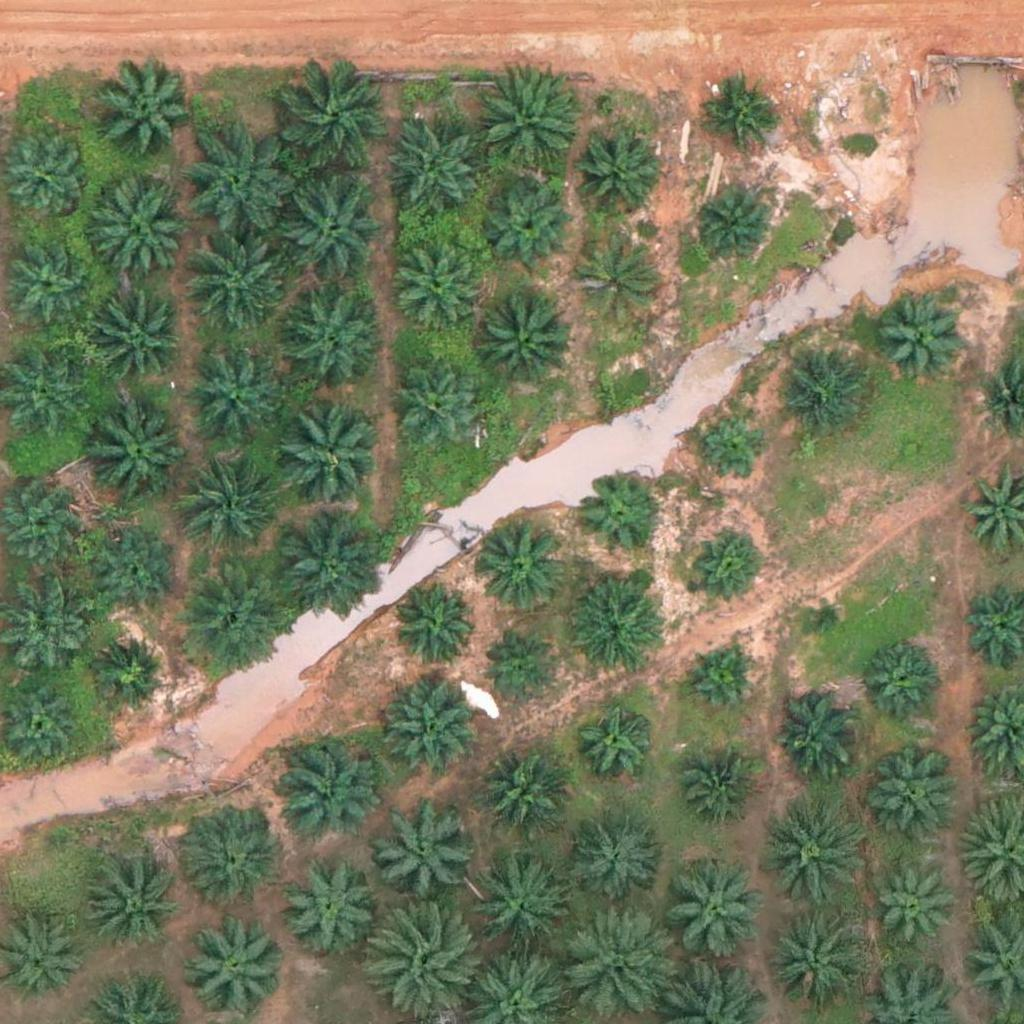Kelapa_Sawit: (274, 278, 387, 392), (470, 65, 583, 179), (558, 905, 671, 1019), (78, 389, 191, 502), (180, 125, 293, 238), (177, 569, 290, 682), (278, 173, 391, 286), (266, 390, 379, 503), (80, 172, 192, 285), (183, 229, 295, 342), (171, 450, 283, 563), (277, 61, 389, 174), (270, 513, 382, 626), (368, 904, 480, 1017), (90, 63, 190, 164), (83, 284, 183, 385), (388, 114, 488, 215), (562, 583, 662, 684), (865, 750, 965, 851), (663, 863, 763, 964), (375, 800, 475, 901), (273, 739, 373, 840), (181, 804, 281, 905), (81, 853, 181, 954), (186, 914, 286, 1015), (182, 342, 282, 442), (470, 285, 570, 385), (774, 348, 874, 448), (763, 805, 863, 905), (378, 686, 478, 786), (277, 855, 377, 955), (766, 909, 866, 1009), (566, 806, 666, 906), (473, 861, 573, 961), (698, 69, 786, 157), (571, 238, 659, 326), (86, 629, 174, 717), (392, 240, 480, 328), (395, 360, 483, 448), (485, 179, 573, 267), (575, 127, 663, 215), (868, 870, 956, 958), (774, 688, 862, 776), (693, 185, 780, 273), (1, 355, 88, 443), (92, 525, 179, 613), (873, 288, 960, 376), (579, 471, 666, 559), (478, 751, 565, 839), (674, 752, 761, 840), (858, 629, 945, 717), (473, 520, 560, 608), (391, 583, 478, 671), (576, 705, 651, 781), (682, 645, 757, 721), (688, 528, 763, 604), (699, 408, 774, 484), (486, 636, 561, 711), (799, 589, 849, 639)
